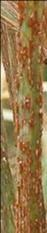Wheat: (14, 50, 41, 142), (19, 153, 46, 231), (17, 1, 43, 44)
